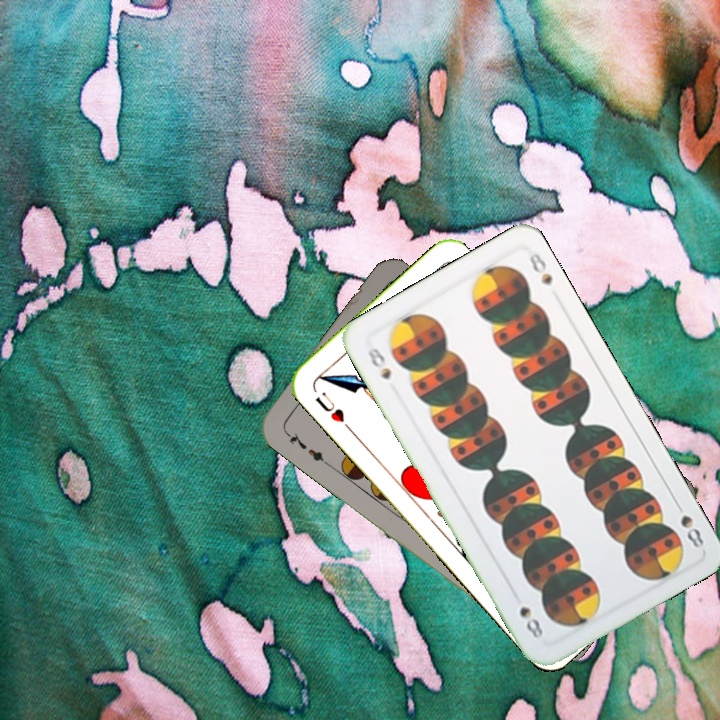E7: (281, 427, 331, 468)
HU: (311, 388, 354, 433)
S8: (670, 496, 707, 551), (363, 344, 394, 383)
